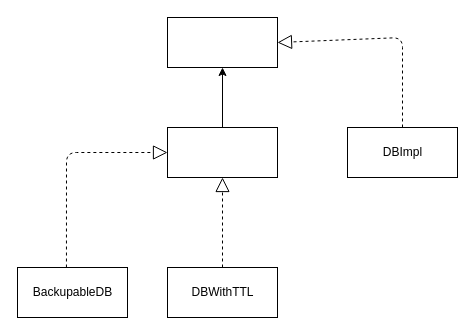
This 475x335 diagram has some shape labels left out. The centre of each missing label's shape, as x and y in pixels:
"DB" belongs at (x=222, y=42).
"StackableDB" belongs at (x=222, y=152).
